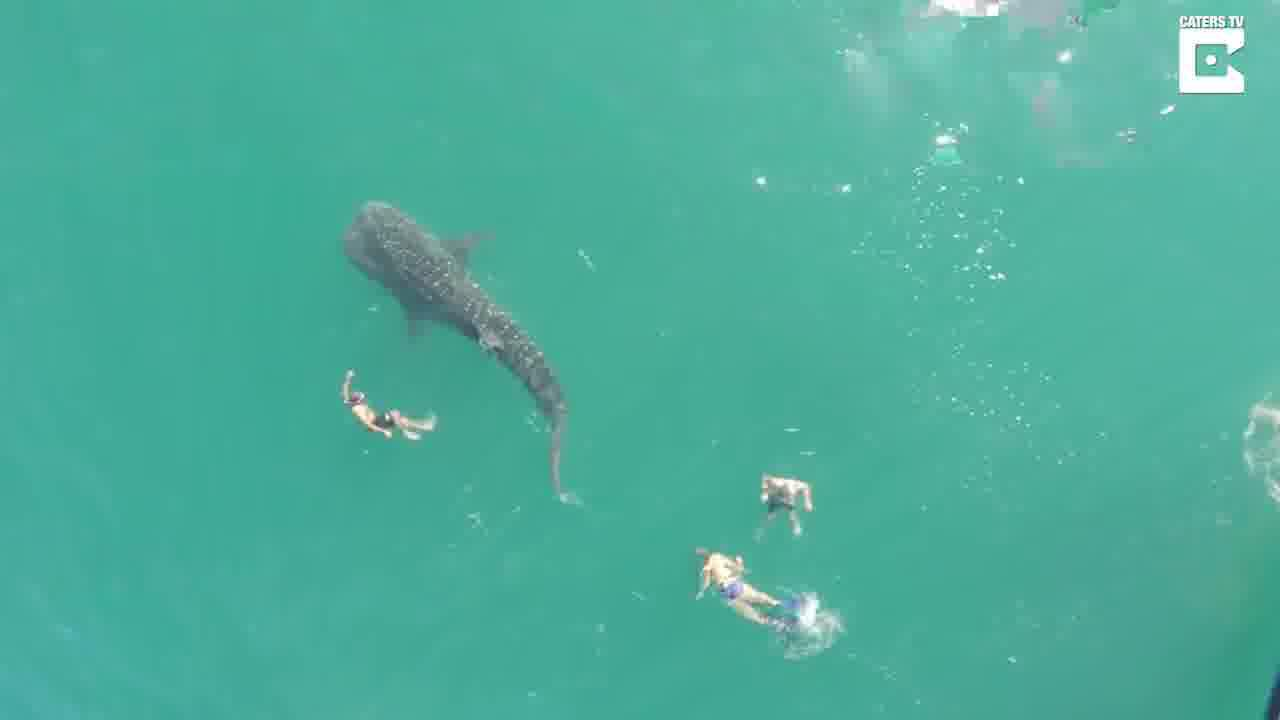human: (336, 368, 447, 454), (695, 546, 787, 632), (760, 473, 809, 540)
